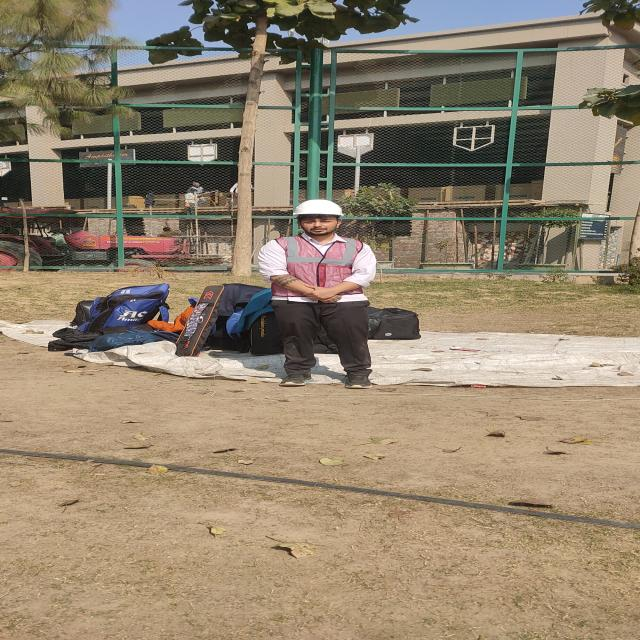safe: (258, 200, 376, 388)
unsafe: (185, 189, 197, 215)
